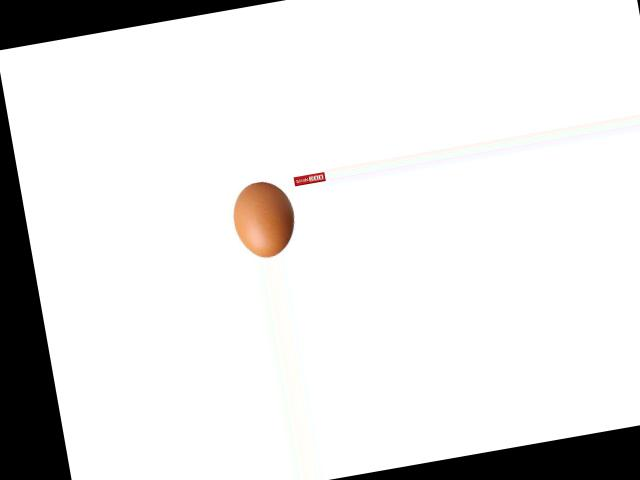egg: (227, 177, 299, 261)
